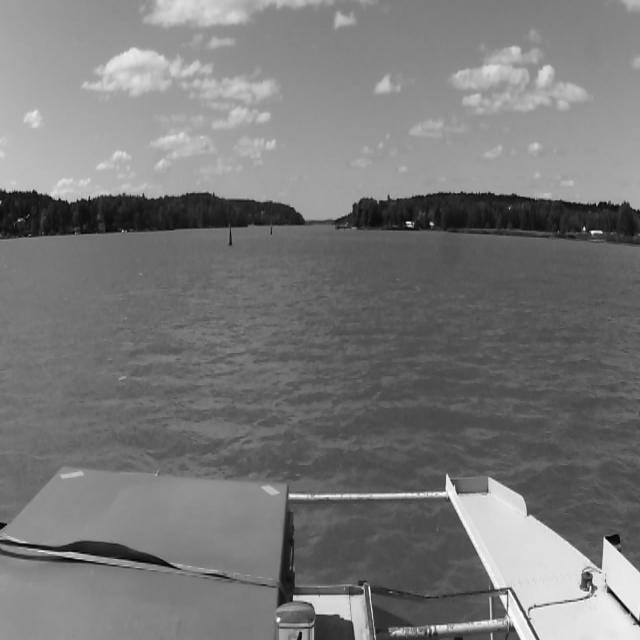buoy: (224, 224, 236, 247), (270, 225, 272, 235)
